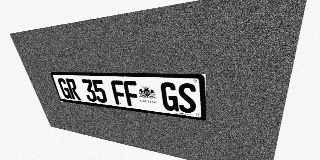3: (81, 79, 98, 102)
5: (91, 79, 108, 103)
F: (110, 80, 128, 106), (123, 81, 141, 107)
G: (160, 82, 179, 112), (57, 78, 72, 99)
R: (65, 78, 81, 100)
S: (177, 83, 196, 114)
